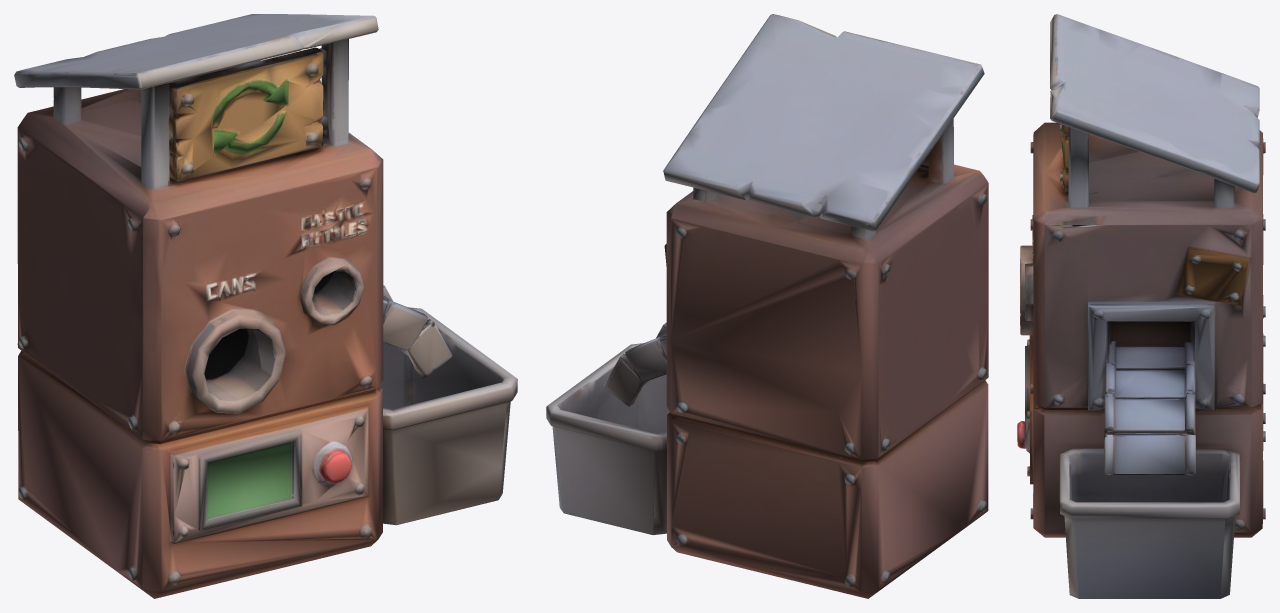
Rendered from recycle-2.glb.
3 views of the same model, side by side, from view 1: azimuth 30°, elevation 25°; view 2: azimuth 150°, elevation 25°; view 3: azimuth 270°, elevation 25° (orthographic). The views are drawn at different scales.
Parts seen in each view (by area): view 1: node_0; view 2: node_0; view 3: node_0.
Boxes of the visible parts, <box> form: node_0: <box>14,14,517,598</box>; node_0: <box>546,14,988,598</box>; node_0: <box>1017,14,1265,598</box>.
Size of the model in its own units: 0.7187 by 0.9101 by 0.4741.
1 material, 1 textured.
